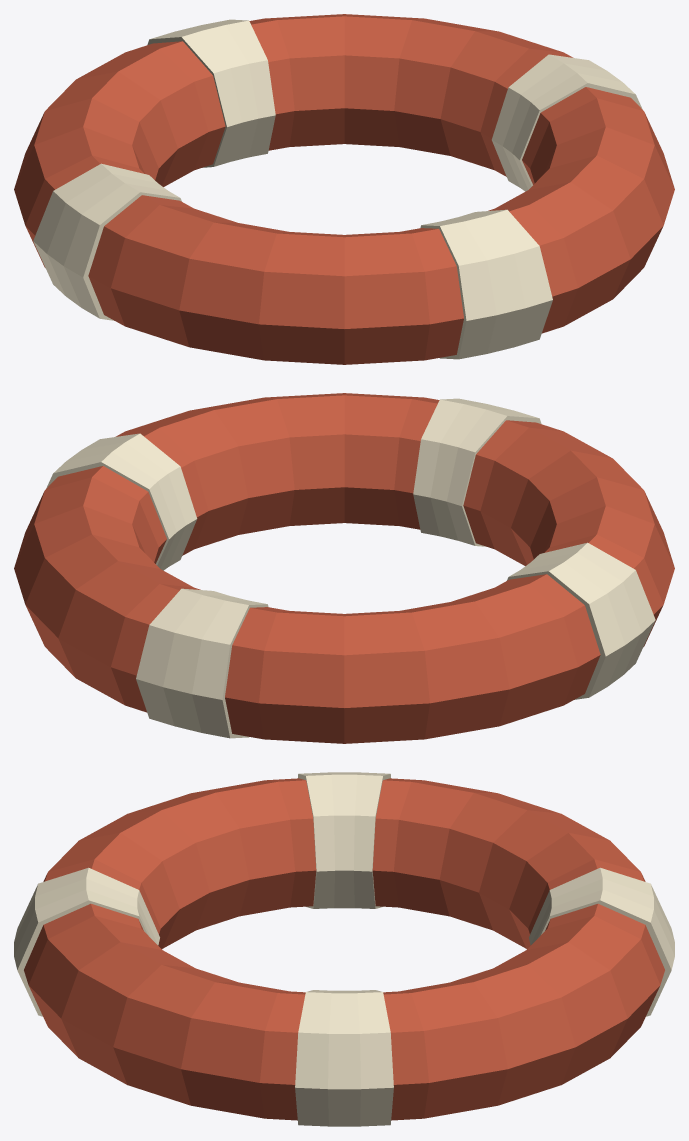
Rendered from 11_Life_Ring.glb.
The picture shows the model from 3 angles, top to bottom: view 1: azimuth 30°, elevation 25°; view 2: azimuth 150°, elevation 25°; view 3: azimuth 270°, elevation 25°; orthographic projection.
Visible parts, largest first — view 1: 11_Life_Ring__Body; view 2: 11_Life_Ring__Body; view 3: 11_Life_Ring__Body.
Part boxes in pixels (x1,y1,x2,y2): 11_Life_Ring__Body: [14, 14, 674, 364]; 11_Life_Ring__Body: [14, 393, 674, 743]; 11_Life_Ring__Body: [14, 772, 674, 1126].
Size of the model in its own units: 1.74 by 0.38 by 1.74.
Materials: 1 (1 with a texture image).
